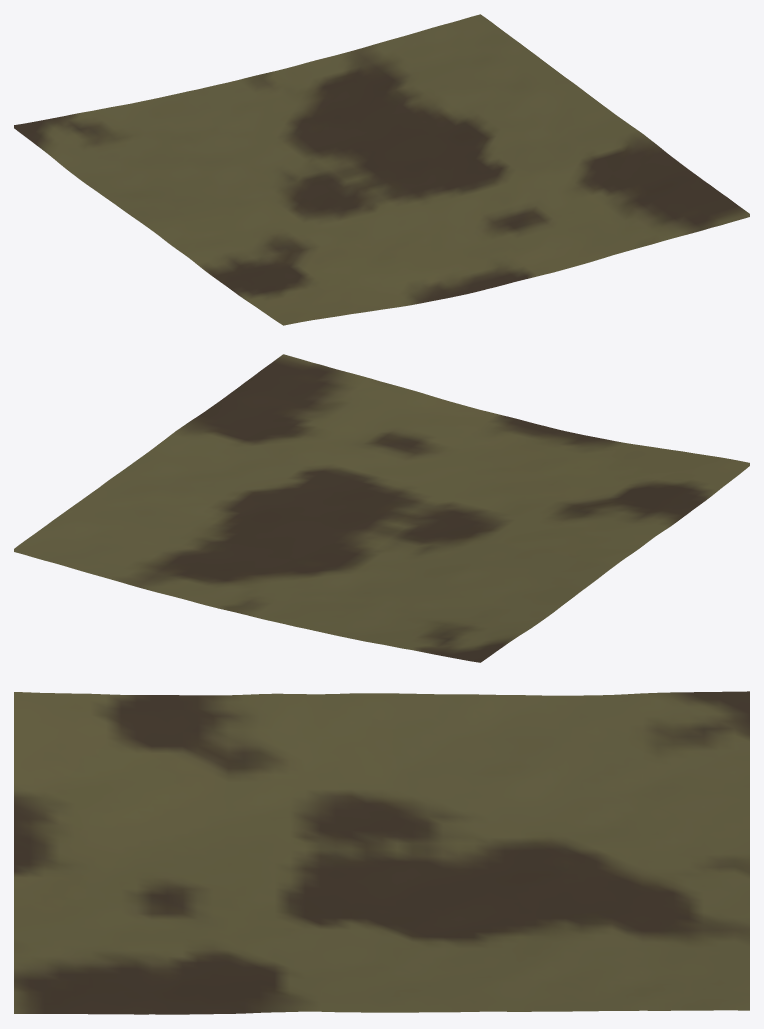
The model's file is land_m_06_00.glb.
3 views of the same model, one above another, from view 1: azimuth 30°, elevation 25°; view 2: azimuth 150°, elevation 25°; view 3: azimuth 270°, elevation 25° (orthographic). The views are drawn at different scales.
Parts seen in each view (by area): view 1: land_m_06_00; view 2: land_m_06_00; view 3: land_m_06_00.
Part boxes in pixels (box(x1,y1,x2,y2)): land_m_06_00: box(14, 14, 749, 325); land_m_06_00: box(14, 354, 749, 662); land_m_06_00: box(14, 691, 749, 1014).
Bounding box in the file's own units: 960 × 32.88 × 960.
